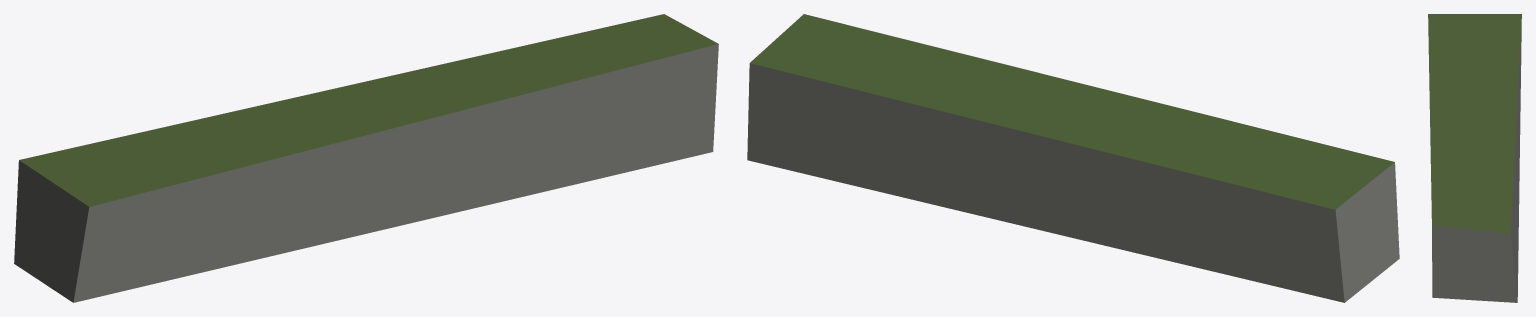
The model's file is Lintel.fbx.
The picture shows the model from 3 angles, left to right: view 1: azimuth 30°, elevation 25°; view 2: azimuth 150°, elevation 25°; view 3: azimuth 270°, elevation 25°; orthographic projection. The views are drawn at different scales.
Parts seen in each view (by area): view 1: Lintel; view 2: Lintel; view 3: Lintel.
Part boxes in pixels (x1,y1,x2,y2): Lintel: (14, 14, 718, 302); Lintel: (747, 14, 1399, 302); Lintel: (1428, 14, 1521, 302).
Size of the model in its own units: 3.24 by 0.5388 by 0.5853.
